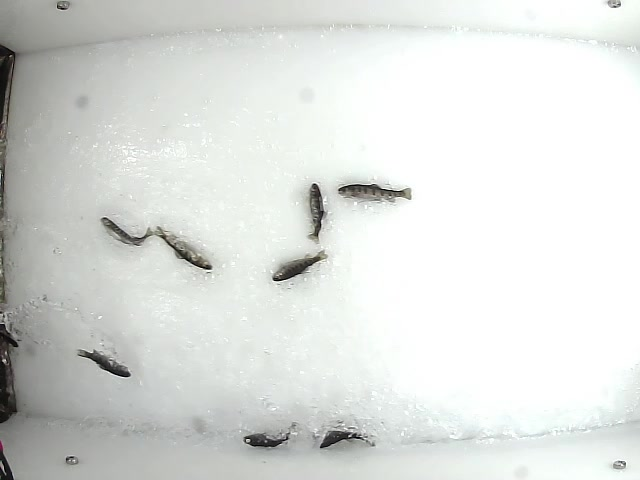fish: (152, 223, 213, 274), (268, 247, 331, 283), (74, 348, 134, 380), (336, 181, 413, 205), (98, 215, 155, 247), (313, 429, 376, 452), (306, 182, 327, 244), (242, 426, 293, 450)
